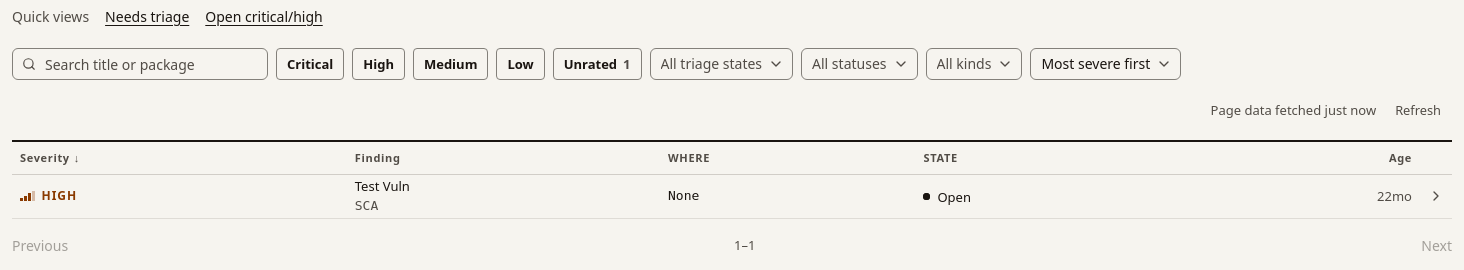
Test: FindingsDashboard › offers Unrated as a severity filter when something is unrated, and requests severity=unknown
This screenshot has width=1464, height=270.
Expected: the link "Test Vuln" is shown, [355,177,410,195]
Click the button "Unrated 1" at coordinates (597, 64), box [553,48,642,80]
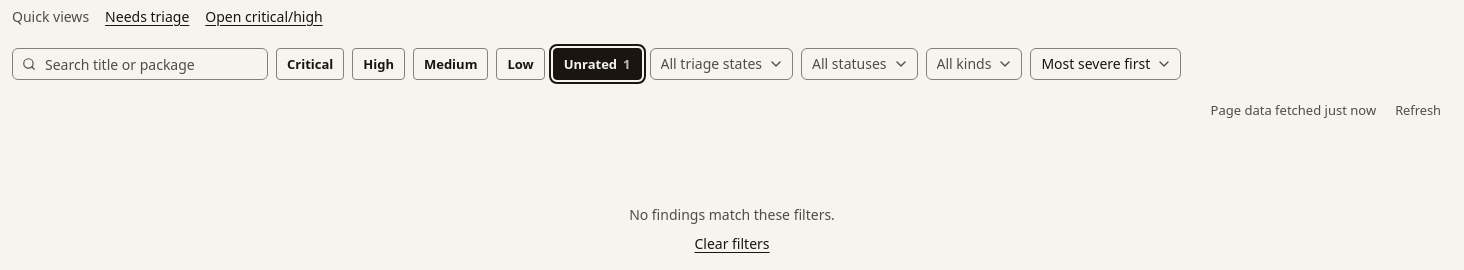
Now the text "No findings match these filters." is shown, box [629,204,835,225]
